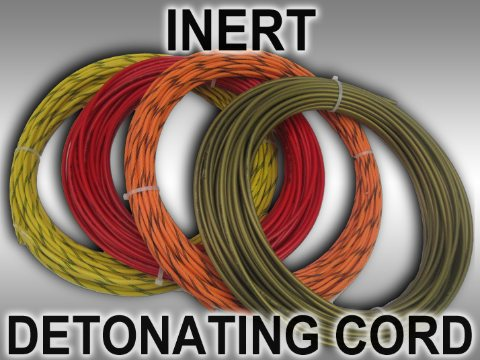Nonrec_Tangler: (1, 49, 473, 312)
